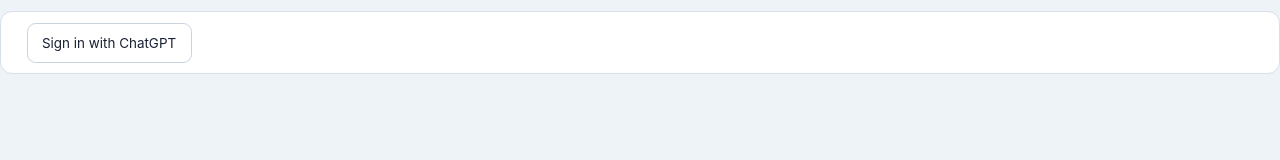
Test case: AccountPanel › keeps a failed unmount cancellation recoverable after remount
The width and height of the screenshot is (1280, 160).
Later steps or results of the test are not shown.
Click the button "Sign in with ChatGPT". click: (109, 43)
box: [27,23,192,63]
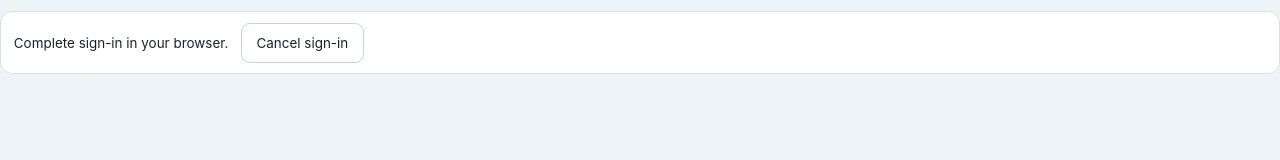
Expected: the text "Complete sign-in in your browser." is shown, [14,35,228,51]
